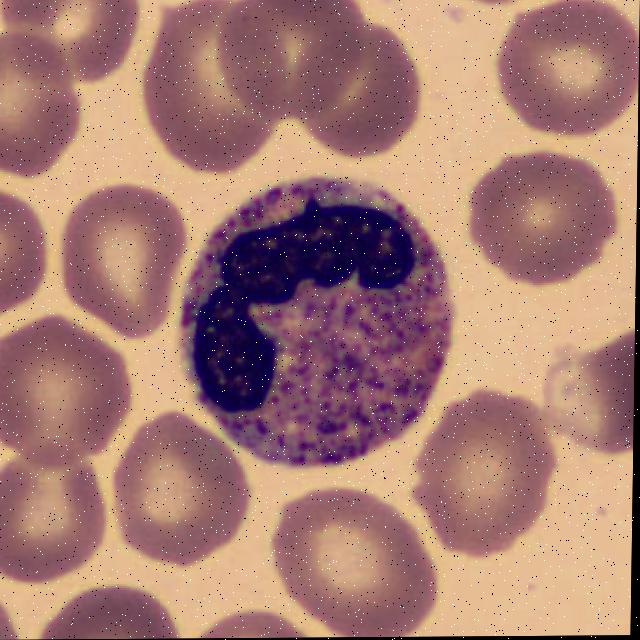neutrophil: (176, 166, 457, 472)
rbc: (262, 493, 446, 638), (137, 0, 294, 169), (463, 144, 633, 295), (411, 391, 557, 565), (0, 313, 133, 476), (111, 423, 252, 572), (210, 0, 366, 134), (493, 4, 640, 146), (50, 184, 175, 345), (298, 19, 418, 160), (0, 445, 107, 585), (541, 308, 635, 458), (0, 0, 135, 88), (0, 40, 78, 187), (36, 584, 183, 640), (0, 173, 43, 320), (193, 601, 320, 638), (0, 600, 23, 640)
